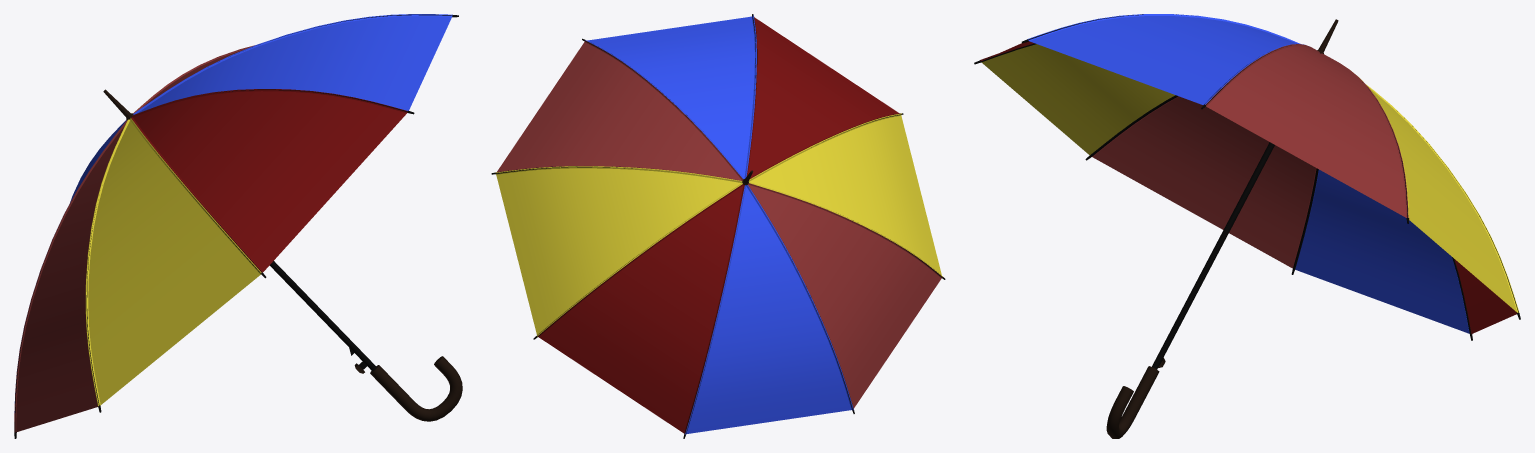
Rendered from U-Umbrealla.FBX.
3 renders of one model, left to right at view 1: azimuth 30°, elevation 25°; view 2: azimuth 150°, elevation 25°; view 3: azimuth 270°, elevation 25°, orthographic. The views are drawn at different scales.
Parts seen in each view (by area): view 1: U_umbrella; view 2: U_umbrella; view 3: U_umbrella.
Part boxes in pixels (x1,y1,x2,y2): U_umbrella: (14,14,462,438); U_umbrella: (491,14,945,438); U_umbrella: (974,14,1520,438).
Size of the model in its own units: 1008 by 806 by 1087.
